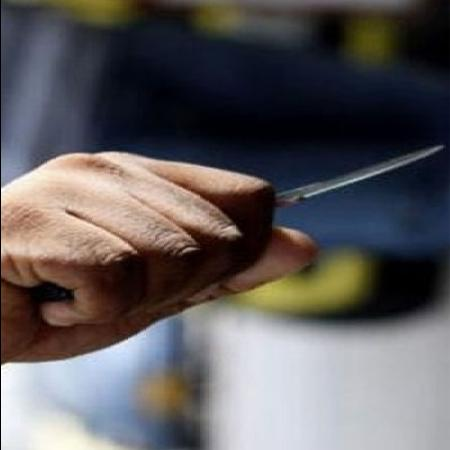long weapon: (99, 138, 447, 283)
